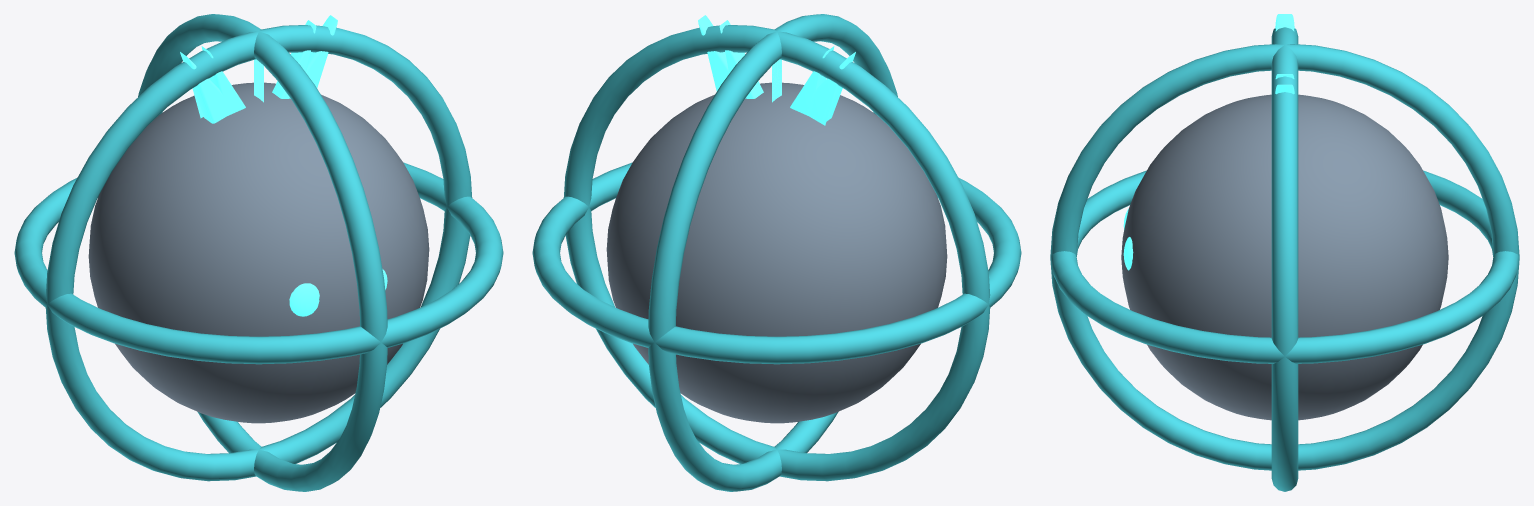
File: elemental_v6.glb
3 views of the same model, side by side, from view 1: azimuth 30°, elevation 25°; view 2: azimuth 150°, elevation 25°; view 3: azimuth 270°, elevation 25° (orthographic). The views are drawn at different scales.
Parts seen in each view (by area): view 1: STORM_ORB_PRIMARY, STORM_RING_ACCENT.001, STORM_RING_ACCENT.002, STORM_RING_ACCENT, LIGHTNING_EMISSIVE.004, EYE_EMISSIVE, LIGHTNING_EMISSIVE.003, LIGHTNING_EMISSIVE; view 2: STORM_ORB_PRIMARY, STORM_RING_ACCENT.001, STORM_RING_ACCENT.002, STORM_RING_ACCENT, LIGHTNING_EMISSIVE.004, LIGHTNING_EMISSIVE.003, LIGHTNING_EMISSIVE; view 3: STORM_ORB_PRIMARY, STORM_RING_ACCENT.002, STORM_RING_ACCENT, STORM_RING_ACCENT.001.
Boxes of the visible parts, box(x1,y1,x2,y2) form: STORM_ORB_PRIMARY: box(88, 82, 429, 423); STORM_RING_ACCENT.001: box(45, 25, 472, 481); STORM_RING_ACCENT.002: box(138, 14, 387, 491); STORM_RING_ACCENT: box(14, 162, 503, 364); LIGHTNING_EMISSIVE.004: box(180, 52, 237, 123); EYE_EMISSIVE: box(289, 283, 319, 316); LIGHTNING_EMISSIVE.003: box(201, 46, 245, 114); LIGHTNING_EMISSIVE: box(306, 15, 337, 88); STORM_ORB_PRIMARY: box(606, 82, 947, 423); STORM_RING_ACCENT.001: box(563, 25, 990, 481); STORM_RING_ACCENT.002: box(648, 14, 897, 491); STORM_RING_ACCENT: box(532, 162, 1021, 364); LIGHTNING_EMISSIVE.004: box(801, 52, 855, 125); LIGHTNING_EMISSIVE.003: box(790, 46, 834, 116); LIGHTNING_EMISSIVE: box(698, 15, 728, 91); STORM_ORB_PRIMARY: box(1121, 94, 1448, 420); STORM_RING_ACCENT.002: box(1050, 44, 1519, 470); STORM_RING_ACCENT: box(1050, 170, 1519, 363); STORM_RING_ACCENT.001: box(1271, 27, 1298, 491).
Bounding box in the file's own units: 1.95 × 1.95 × 1.95.
